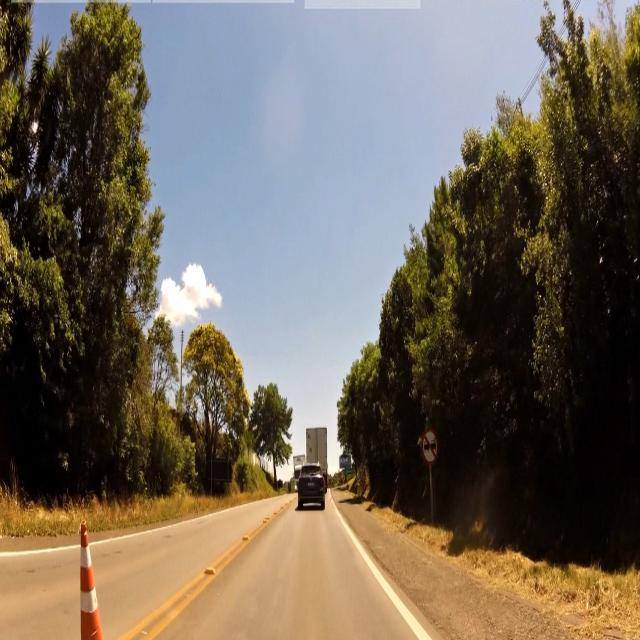R-7: (422, 426, 439, 467)
